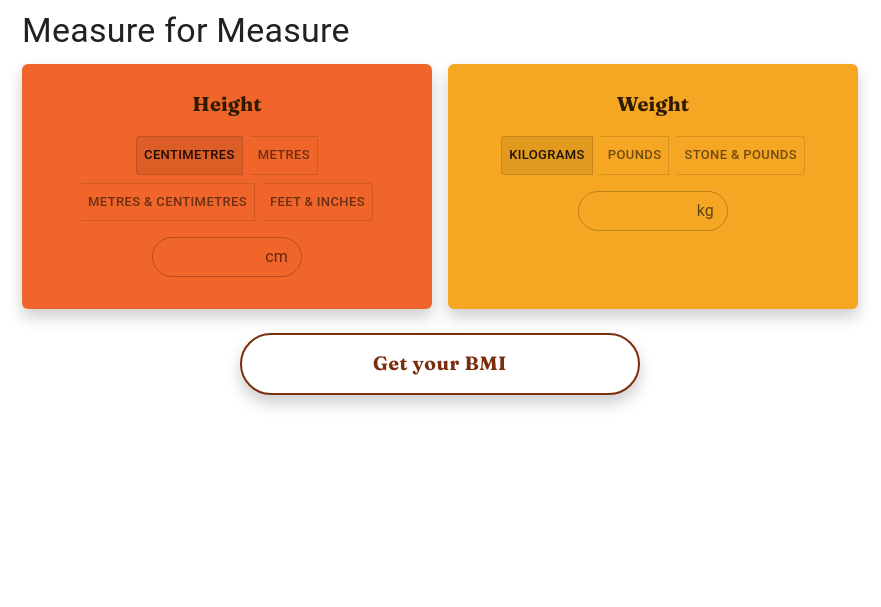
Test case: App › shows Update button when inputs change after submission
Type "170" into the number field next to "cm". click: (205, 257)
box: left=152, top=237, right=257, bottom=277
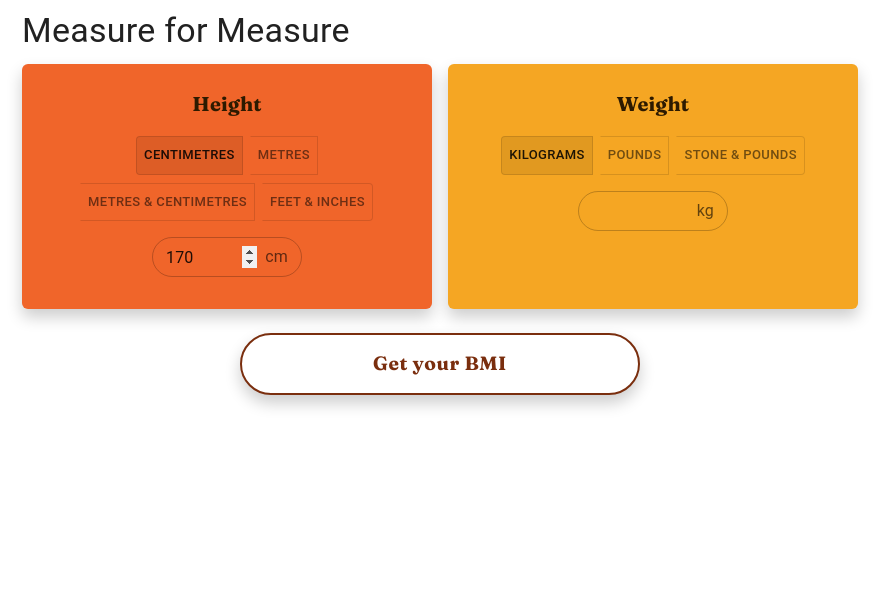
Type "70" into the number field next to "kg". click: (633, 211)
box: left=578, top=191, right=689, bottom=231
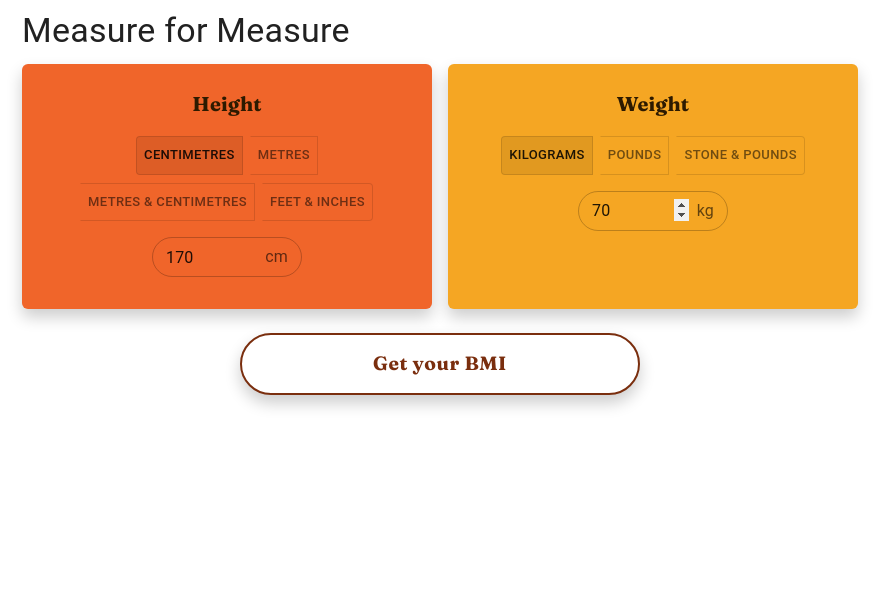
Click the button "Get your BMI". click: (440, 364)
box: left=240, top=333, right=640, bottom=395
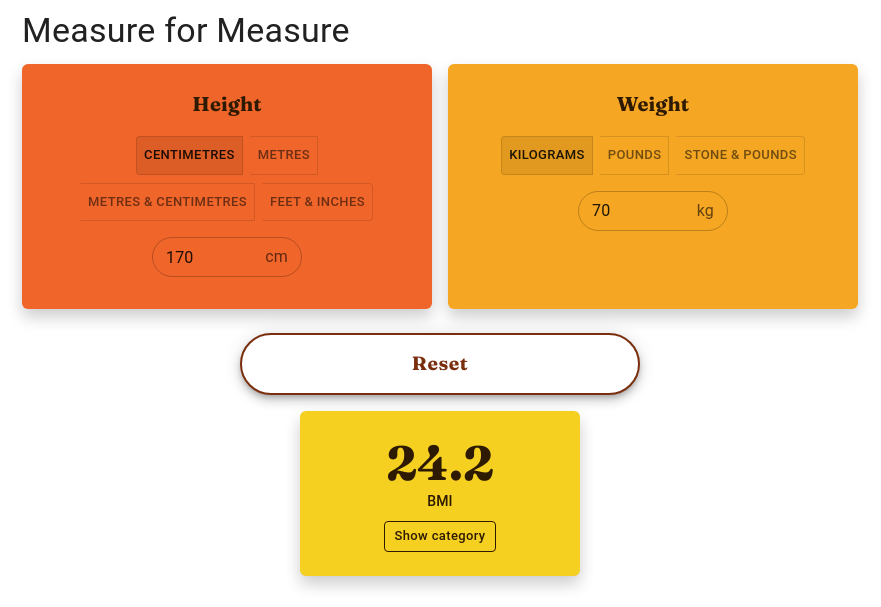
Type "5" into the number field next to "cm". click: (205, 257)
box: left=152, top=237, right=257, bottom=277
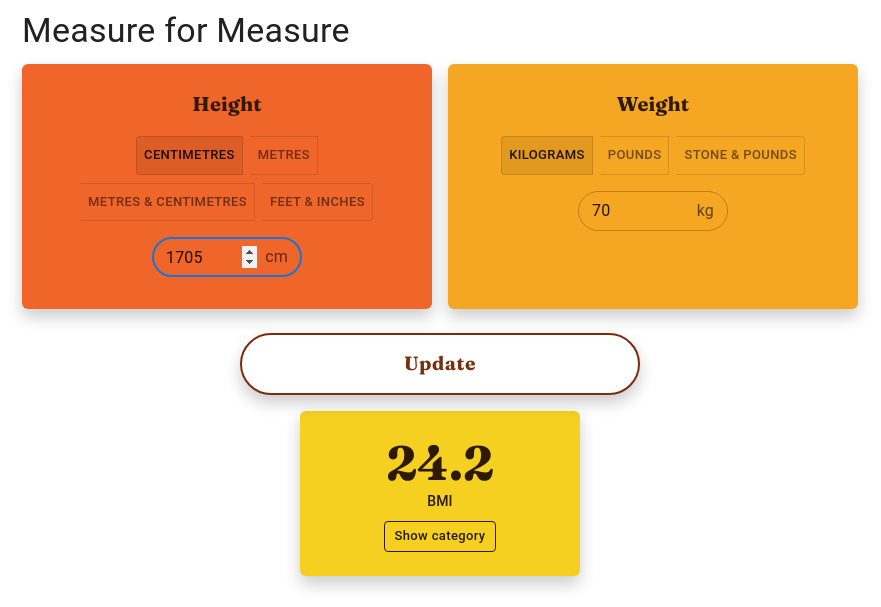
Check: the button "Update" is shown, box left=240, top=333, right=640, bottom=395
